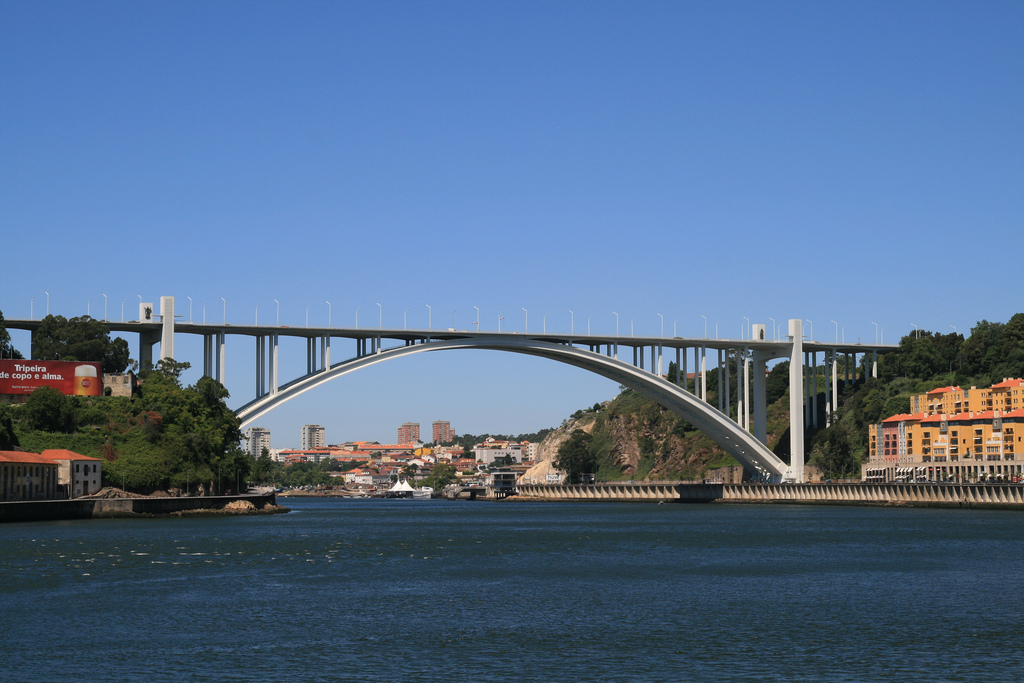arrabida: (0, 294, 899, 485)
